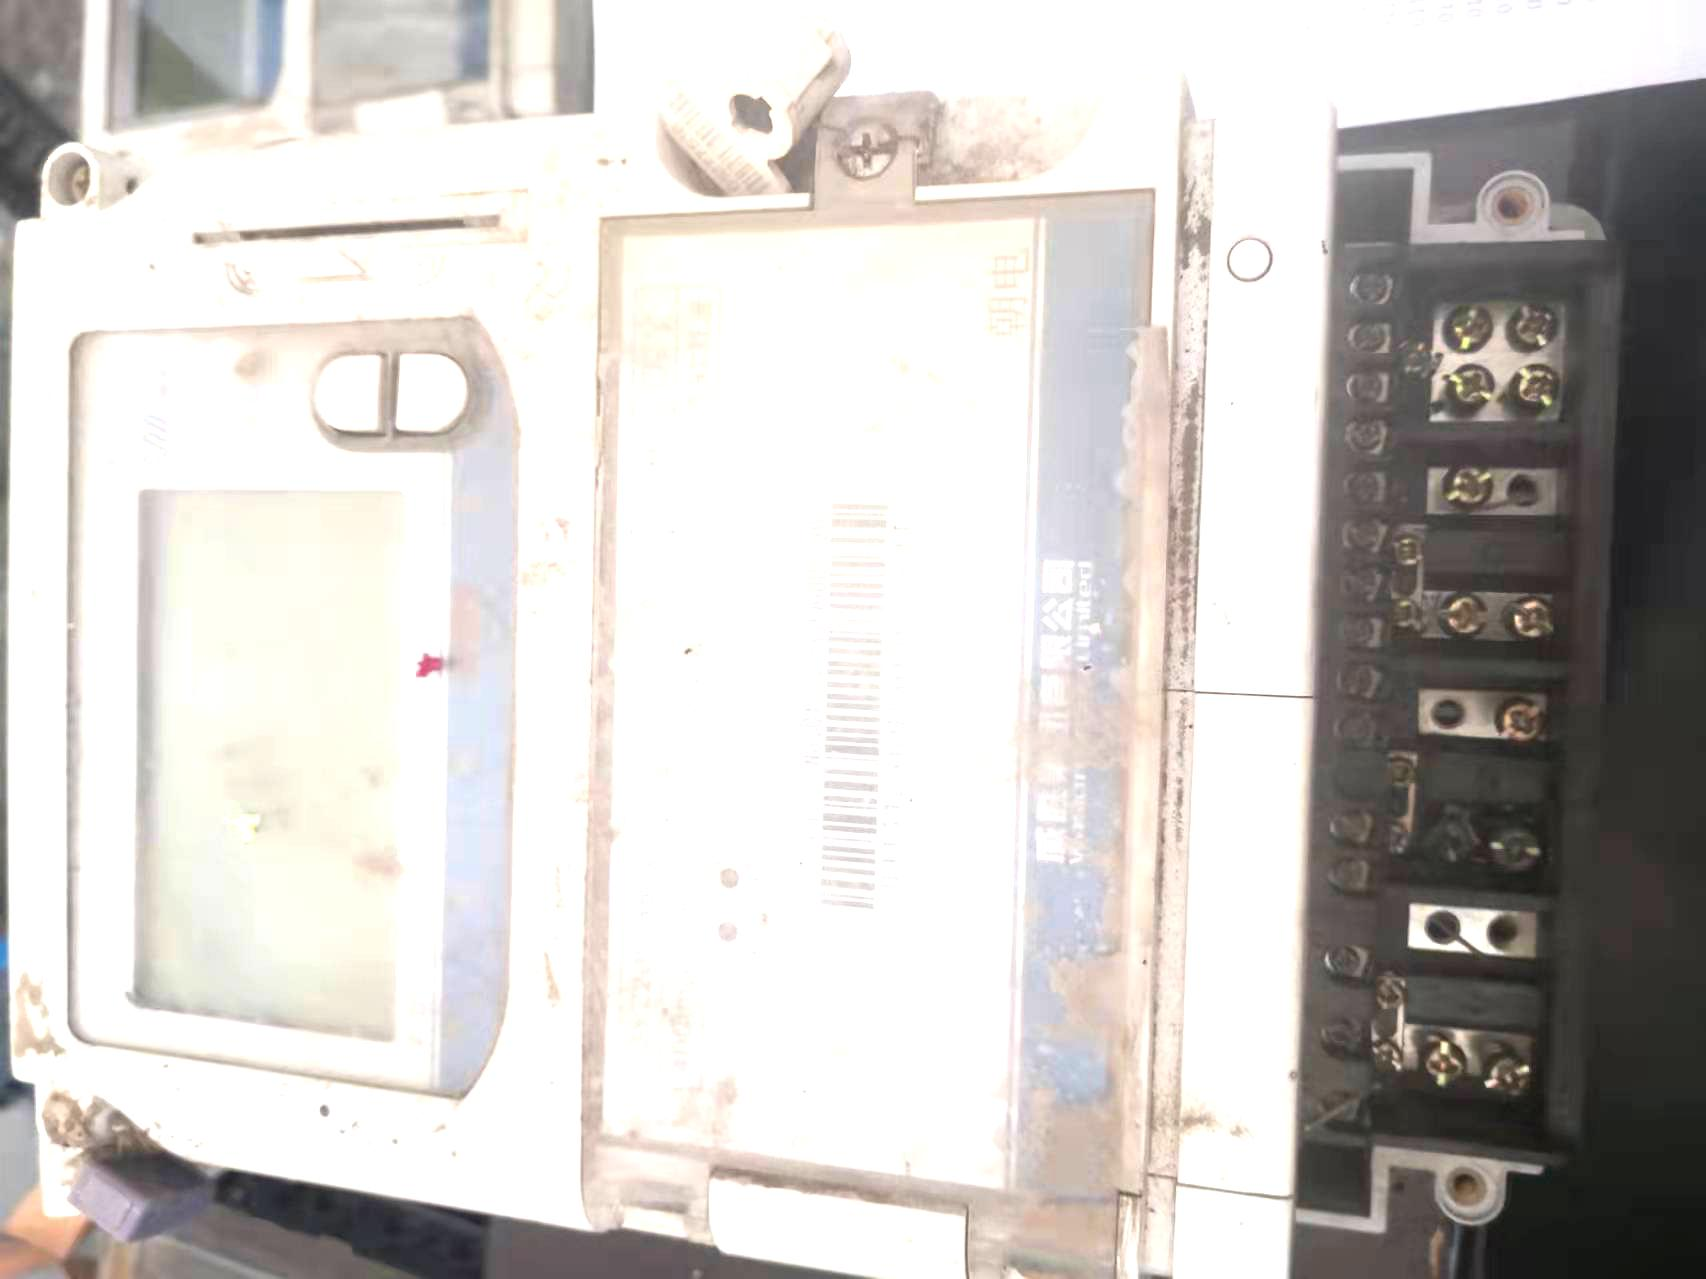digital: (5, 75, 1183, 1279)
